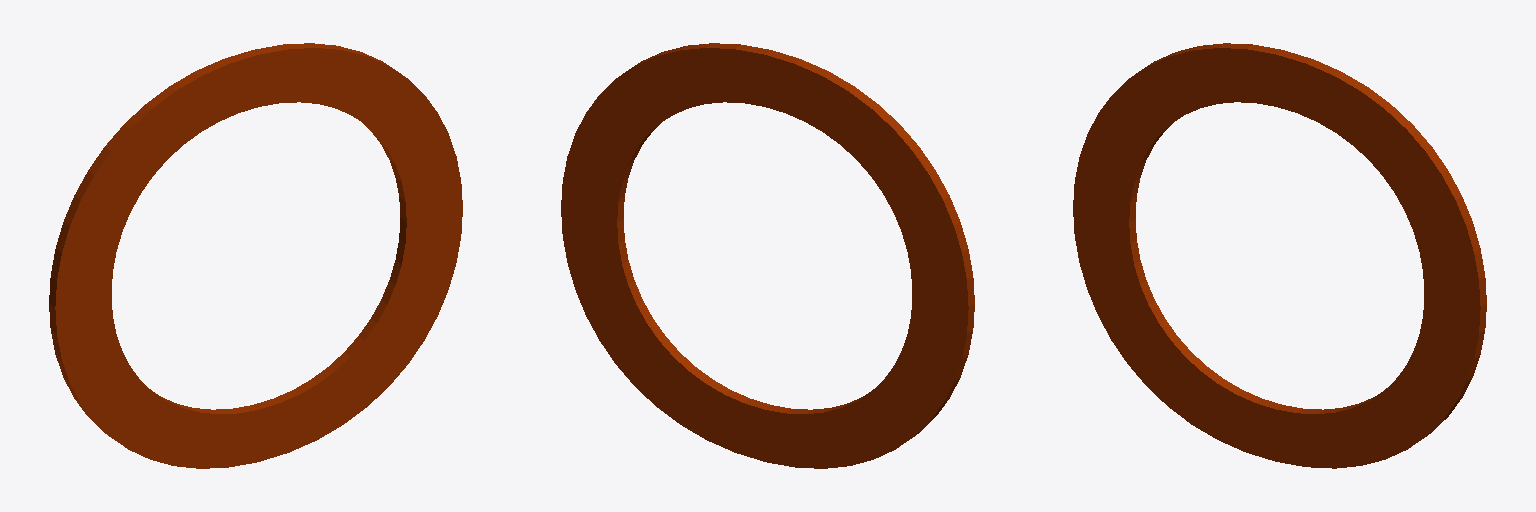
File: O_no_normals.obj
The picture shows the model from 3 angles: view 1: azimuth 30°, elevation 25°; view 2: azimuth 150°, elevation 25°; view 3: azimuth 330°, elevation 25°; orthographic projection.
Visible parts, largest first — view 1: Text; view 2: Text; view 3: Text.
Boxes of the visible parts, x1=… form: Text: x1=49, y1=43, x2=462, y2=468; Text: x1=561, y1=43, x2=974, y2=468; Text: x1=1073, y1=43, x2=1486, y2=468.
Bounding box in the file's own units: 0.733 × 0.7 × 0.02.